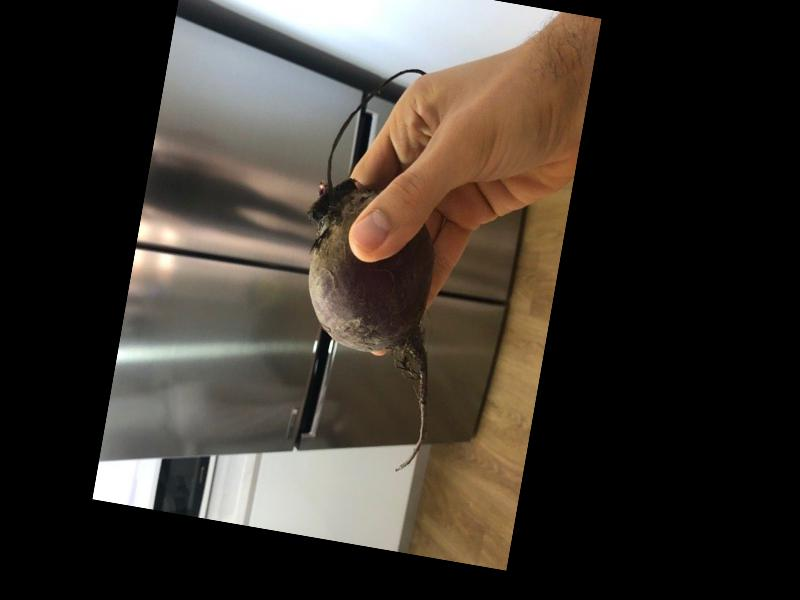Beet: (269, 56, 485, 478)
